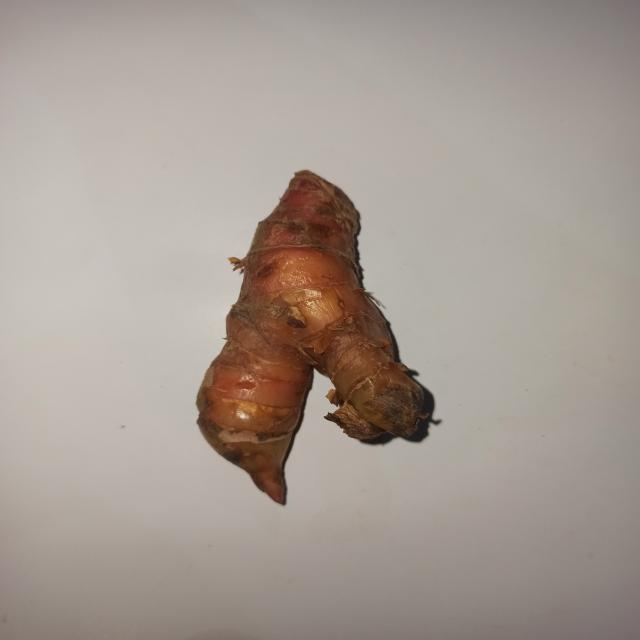ginger: (204, 177, 434, 478)
